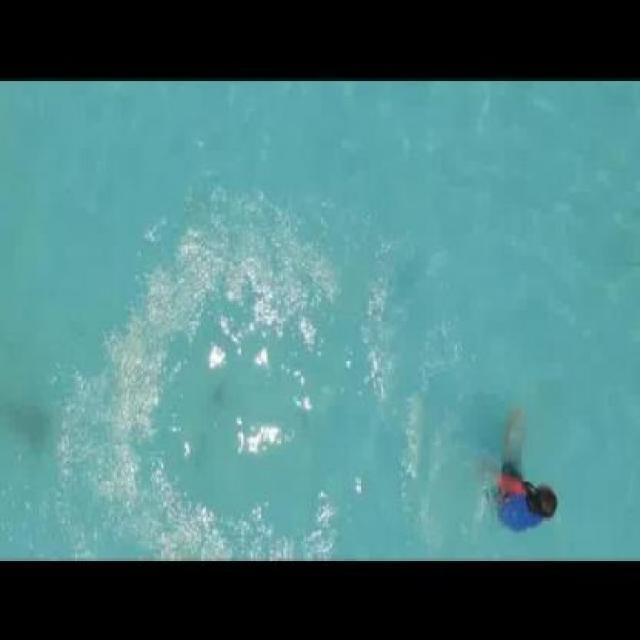swimming: (484, 428, 563, 534)
